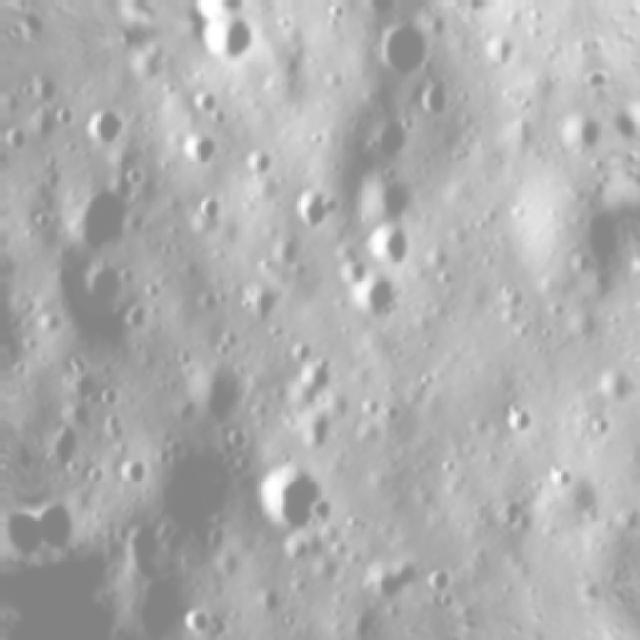crater: (146, 436, 246, 544), (54, 169, 146, 256), (240, 457, 332, 540), (175, 356, 251, 435), (364, 14, 434, 84), (544, 99, 608, 172), (104, 522, 170, 590), (124, 580, 194, 640), (357, 162, 423, 224), (190, 10, 258, 68), (286, 175, 346, 236), (70, 97, 135, 151), (344, 270, 402, 328), (38, 412, 93, 473), (358, 219, 414, 276), (363, 108, 415, 166), (589, 352, 640, 410), (233, 278, 287, 330), (428, 0, 527, 28), (34, 496, 83, 552), (292, 402, 341, 458), (76, 254, 126, 308), (496, 391, 546, 444), (178, 120, 228, 169), (534, 452, 584, 498), (415, 76, 459, 126), (106, 450, 152, 496), (414, 558, 457, 604), (491, 495, 532, 539), (182, 84, 220, 121), (0, 116, 34, 156), (580, 412, 618, 446), (90, 380, 124, 412), (178, 606, 210, 639), (356, 0, 402, 20), (0, 141, 14, 184)
